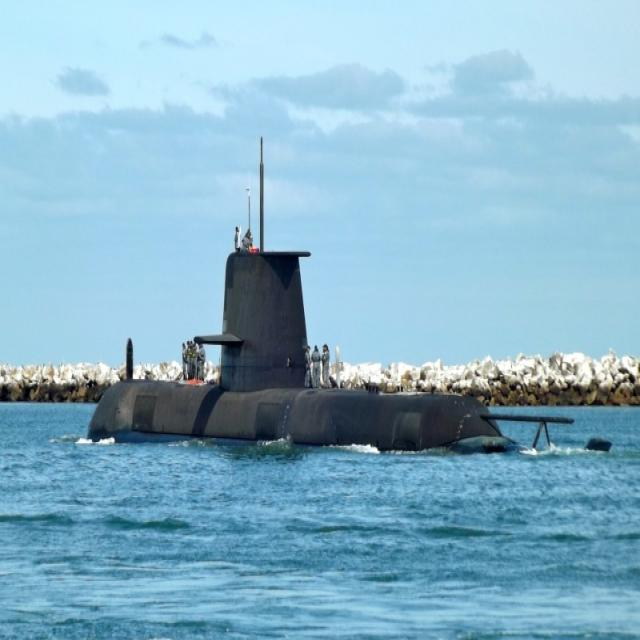submarine: (86, 136, 619, 454)
